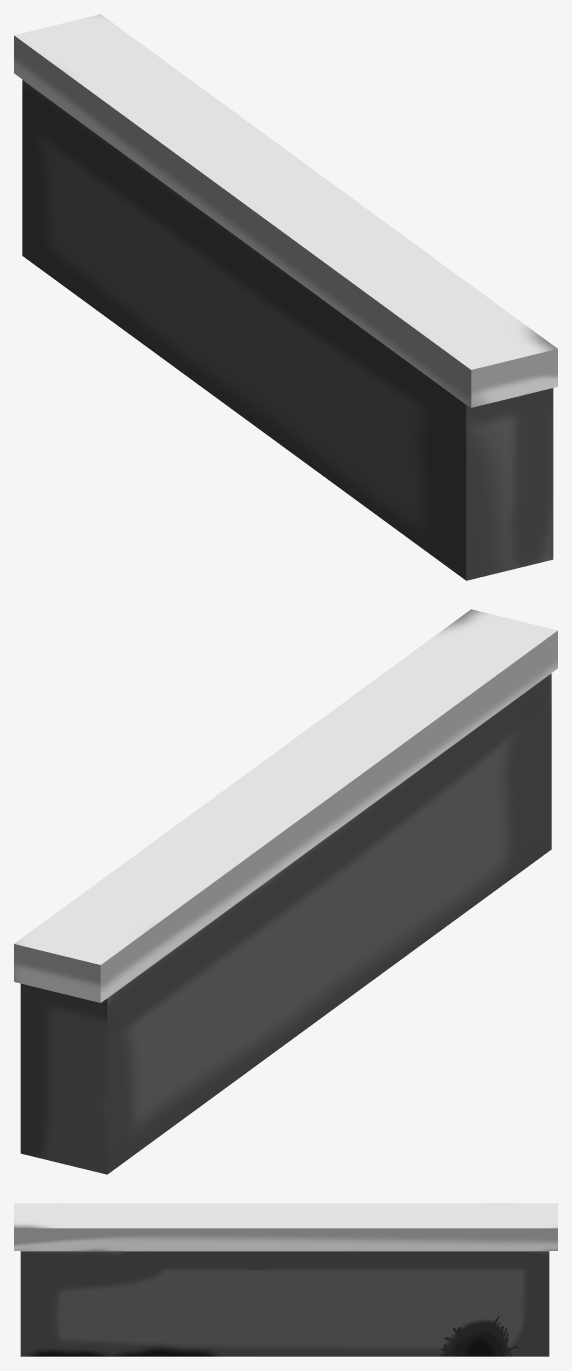
File: muro2textura2.fbx
The picture shows the model from 3 angles, top to bottom: view 1: azimuth 30°, elevation 25°; view 2: azimuth 150°, elevation 25°; view 3: azimuth 270°, elevation 25°; orthographic projection. The views are drawn at different scales.
Parts seen in each view (by area): view 1: Cube; view 2: Cube; view 3: Cube.
Part boxes in pixels (x1,y1,x2,y2): Cube: (14, 14, 557, 580); Cube: (14, 609, 557, 1174); Cube: (14, 1203, 557, 1356).
Bounding box in the file's own units: 79.94 × 188 × 722.
